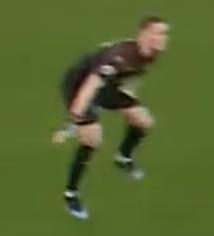goalkeeper: (33, 9, 186, 229)
